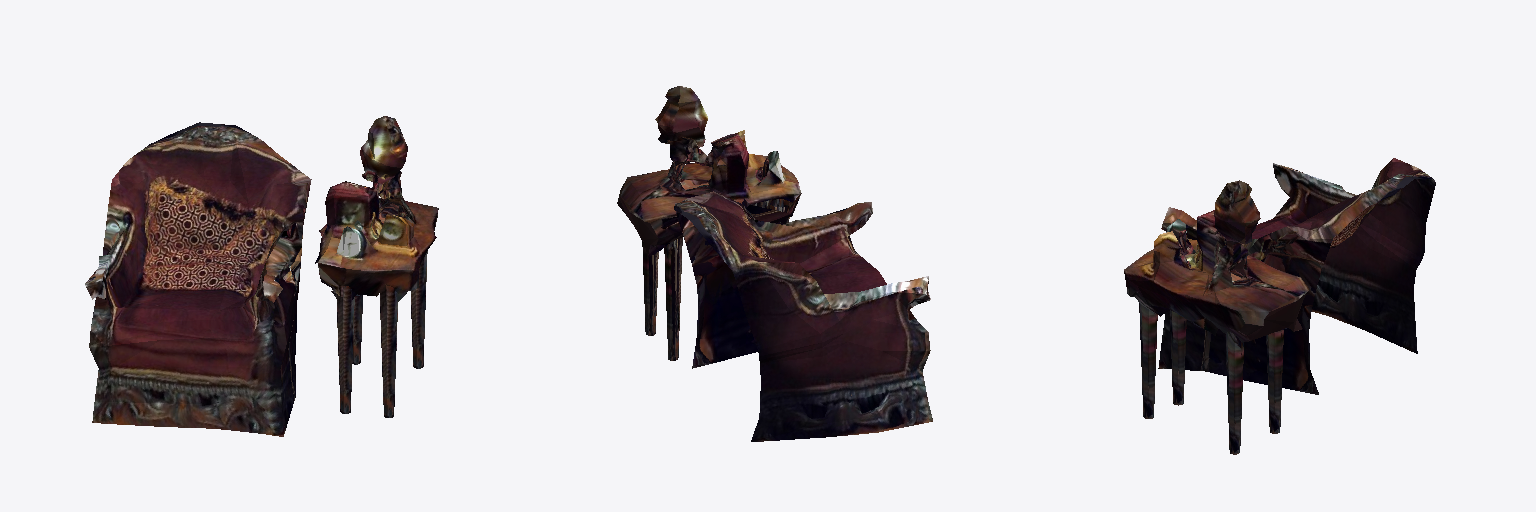
3 renders of one model, left to right at view 1: azimuth 30°, elevation 25°; view 2: azimuth 150°, elevation 25°; view 3: azimuth 270°, elevation 25°, orthographic.
Visible parts, largest first — view 1: LivingRoom_GEO_GRP_LivingRoom_Sofa_02; view 2: LivingRoom_GEO_GRP_LivingRoom_Sofa_02; view 3: LivingRoom_GEO_GRP_LivingRoom_Sofa_02.
Part boxes in pixels (bbox=[...]): LivingRoom_GEO_GRP_LivingRoom_Sofa_02: bbox=[85, 116, 438, 436]; LivingRoom_GEO_GRP_LivingRoom_Sofa_02: bbox=[617, 86, 932, 441]; LivingRoom_GEO_GRP_LivingRoom_Sofa_02: bbox=[1124, 158, 1435, 454].
Bounding box in the file's own units: 1.49 × 1.12 × 1.23.
1 materials, 1 textured.